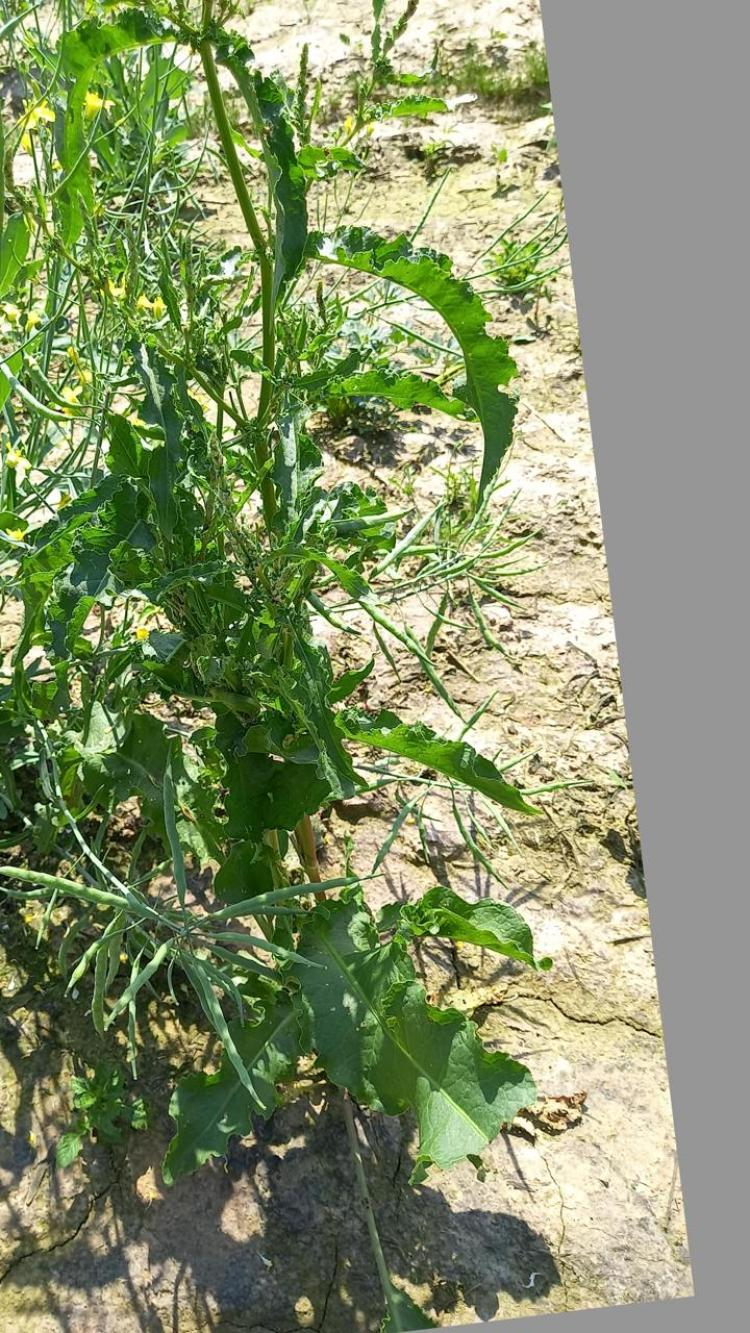zhavel: (92, 0, 533, 1298)
